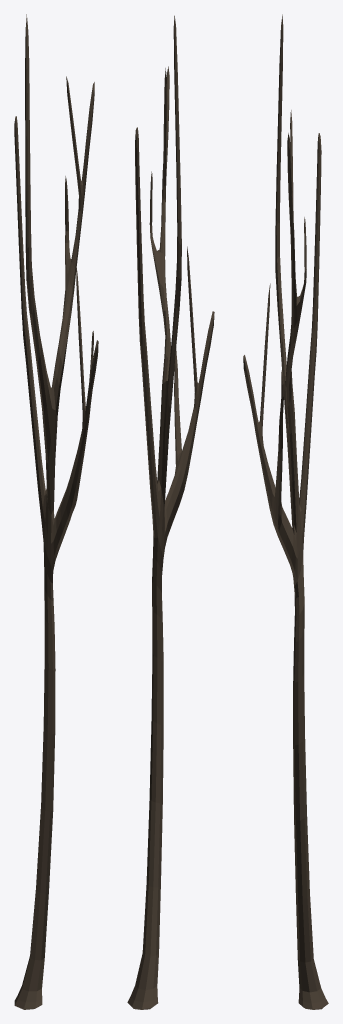
File: RedwoodSnag_B.obj
3 views of the same model, side by side, from view 1: azimuth 90°, elevation 25°; view 2: azimuth 150°, elevation 25°; view 3: azimuth 330°, elevation 25° (orthographic). The views are drawn at different scales.
Visible parts, largest first — view 1: RedwoodSnag_B; view 2: RedwoodSnag_B; view 3: RedwoodSnag_B.
Boxes of the visible parts, x1,y1,x2,y2 form: RedwoodSnag_B: [14, 14, 98, 1009]; RedwoodSnag_B: [127, 15, 214, 1009]; RedwoodSnag_B: [243, 14, 328, 1009].
Bounding box in the file's own units: 0.0532 × 1 × 0.0757.
